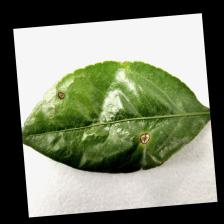canker: (45, 81, 153, 158)
